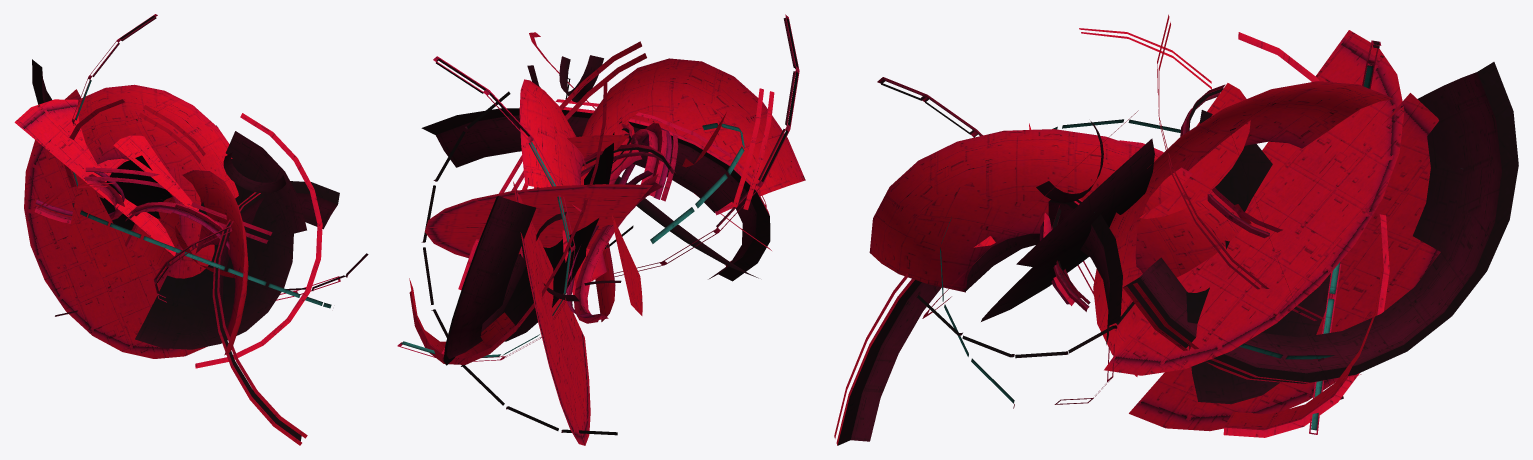
Rendered from MonsterB_Die9.obj.
3 renders of one model, left to right at view 1: azimuth 30°, elevation 25°; view 2: azimuth 150°, elevation 25°; view 3: azimuth 270°, elevation 25°, orthographic. The views are drawn at different scales.
Parts seen in each view (by area): view 1: Sphere001; view 2: Sphere001; view 3: Sphere001.
Boxes of the visible parts, bbox=[...] form: Sphere001: bbox=[14, 14, 368, 445]; Sphere001: bbox=[397, 14, 805, 445]; Sphere001: bbox=[834, 14, 1518, 445].
Size of the model in its own units: 216 by 220 by 317.
1 material, 1 textured.
